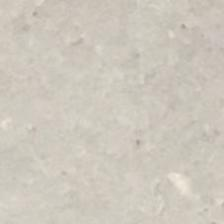Non_Crack: (16, 10, 212, 203)
